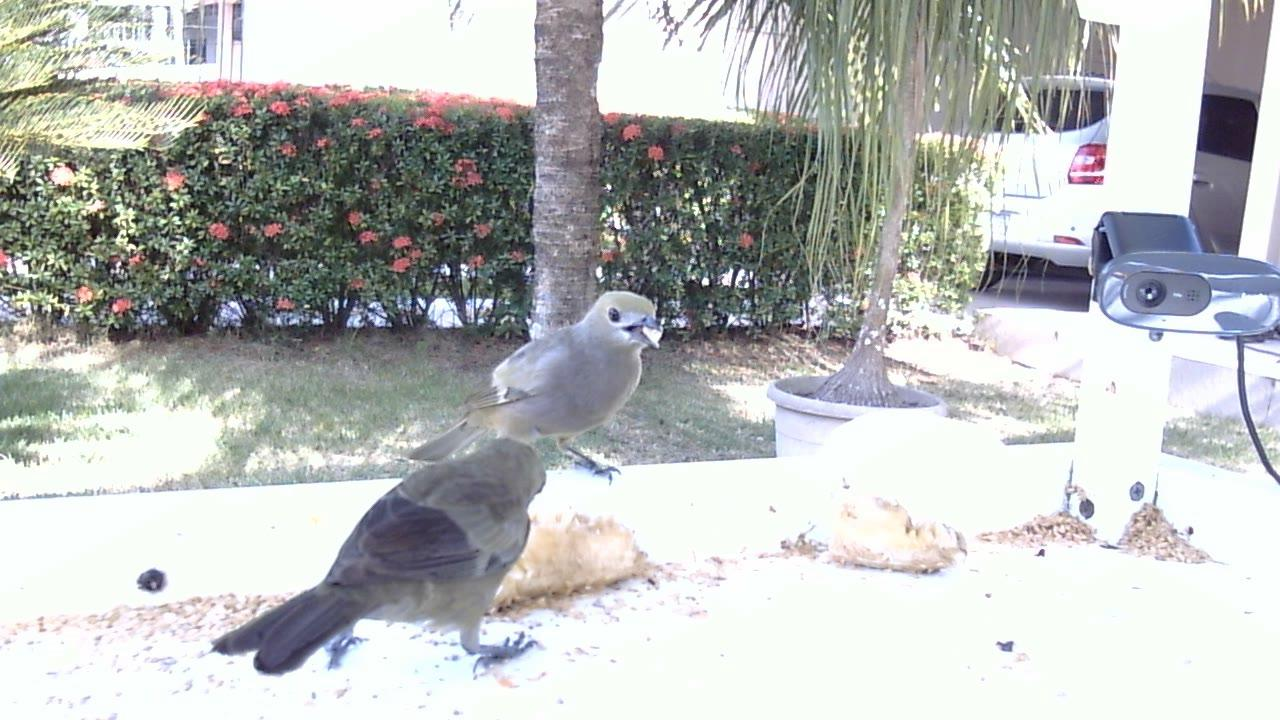sanhaco_do_coqueiro: (210, 439, 548, 679), (411, 289, 666, 487)
